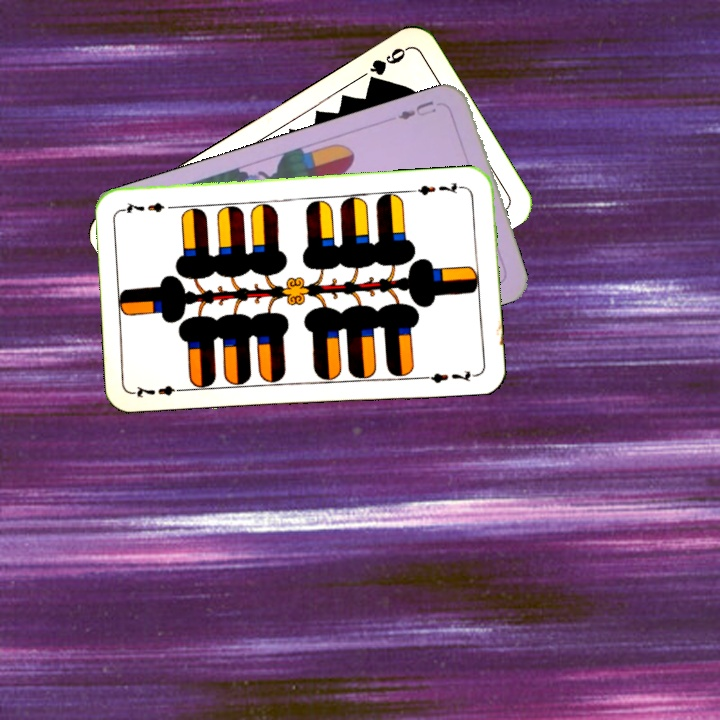E7: (409, 178, 468, 198), (130, 381, 189, 401)
EU: (394, 96, 439, 123)
G9: (363, 43, 411, 89)
